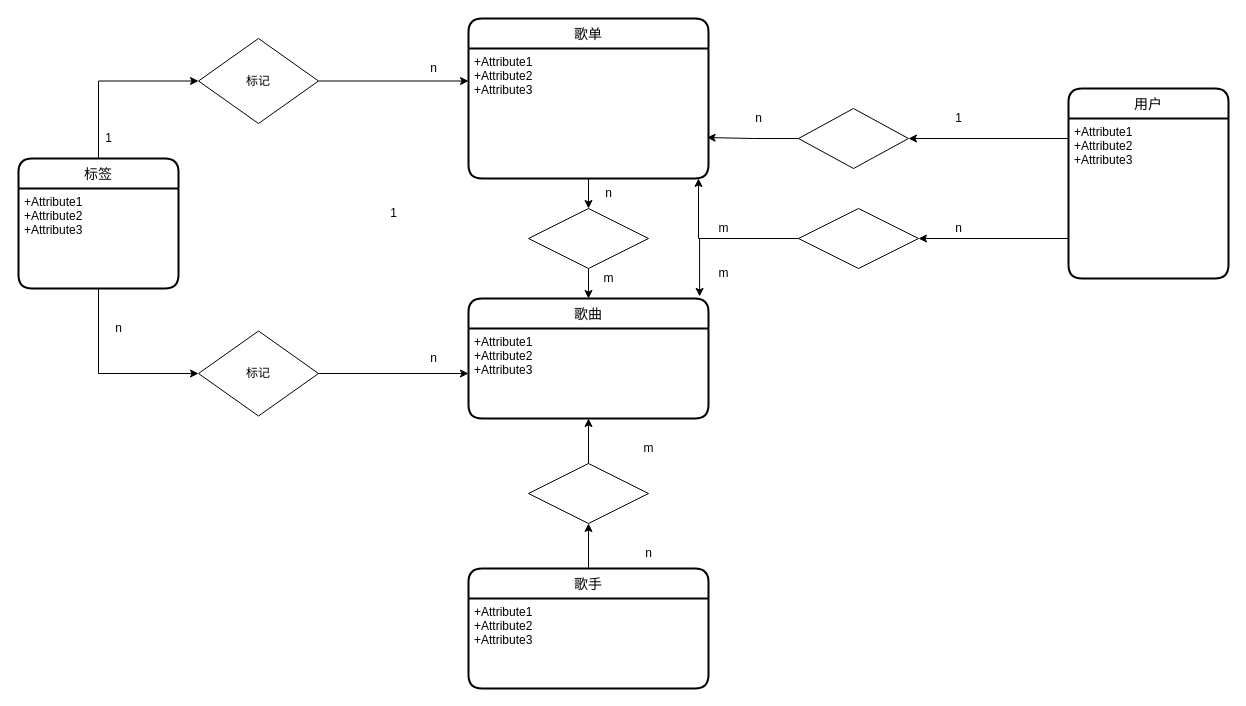
This 1246x706 diagram has some shape labels left out. The shapes that lost their labels are listed below. From the top down, each one's centre as x and y in pixels, then its label:
At point (853, 138): "创建".
At point (588, 238): "添加".
At point (858, 238): "收藏/播放/评论".
At point (588, 493): "拥有".
